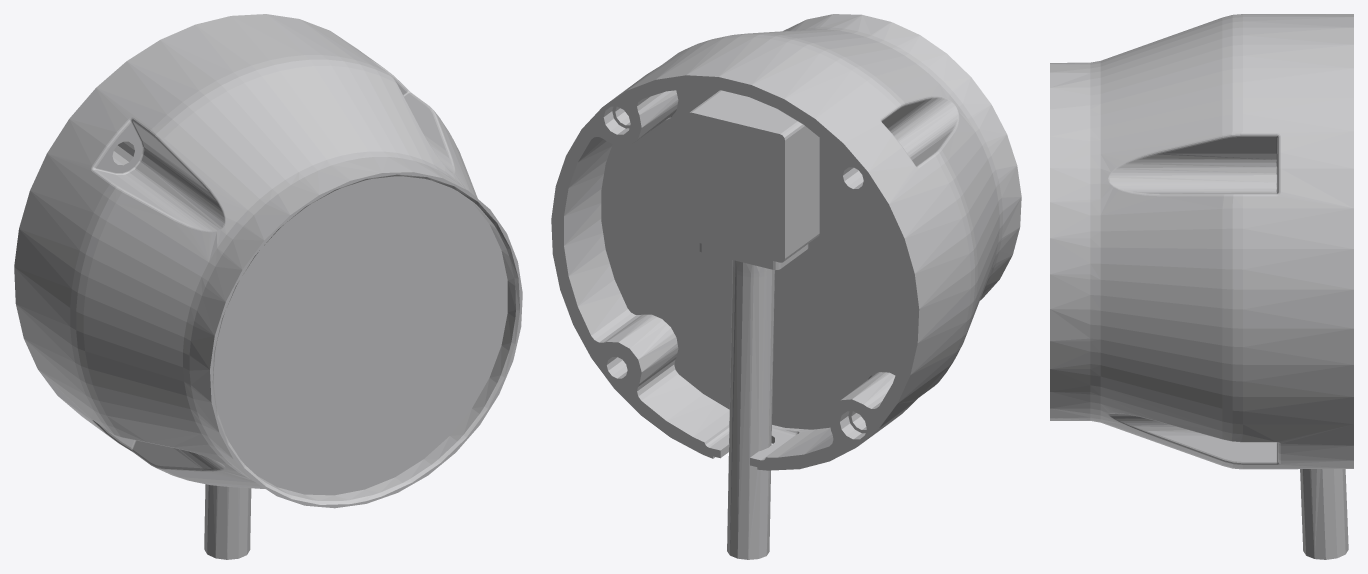
File: ARM1.obj
The picture shows the model from 3 angles, left to right: view 1: azimuth 30°, elevation 25°; view 2: azimuth 150°, elevation 25°; view 3: azimuth 270°, elevation 25°; orthographic projection. The views are drawn at different scales.
Parts seen in each view (by area): view 1: GBT-C7A-J0.001; view 2: GBT-C7A-J0.001; view 3: GBT-C7A-J0.001.
Part boxes in pixels (x1,y1,x2,y2): GBT-C7A-J0.001: (14,14,522,559); GBT-C7A-J0.001: (551,14,1021,559); GBT-C7A-J0.001: (1050,14,1353,559).
Bounding box in the file's own units: 150 × 187 × 100.
1 material, 1 textured.
